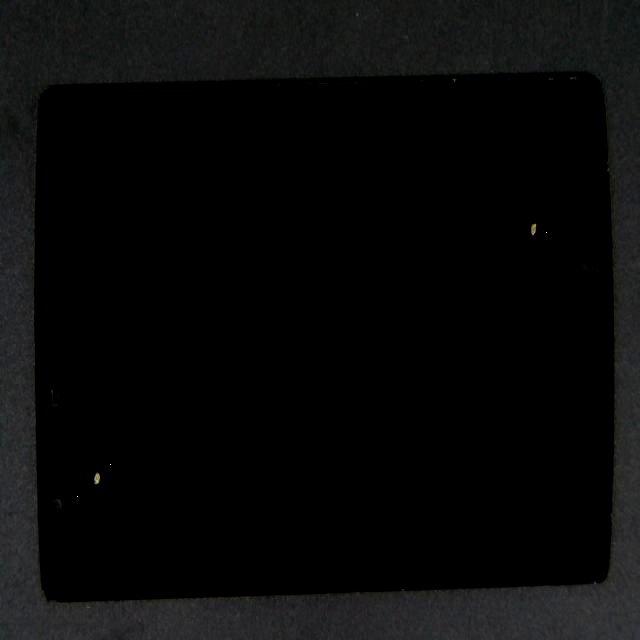stain: (274, 74, 640, 293), (34, 254, 104, 640)
